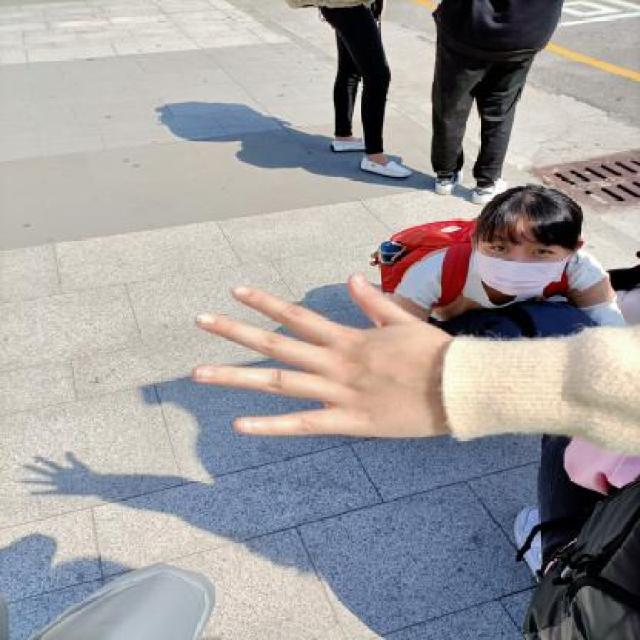bare_hand: (175, 251, 514, 464)
